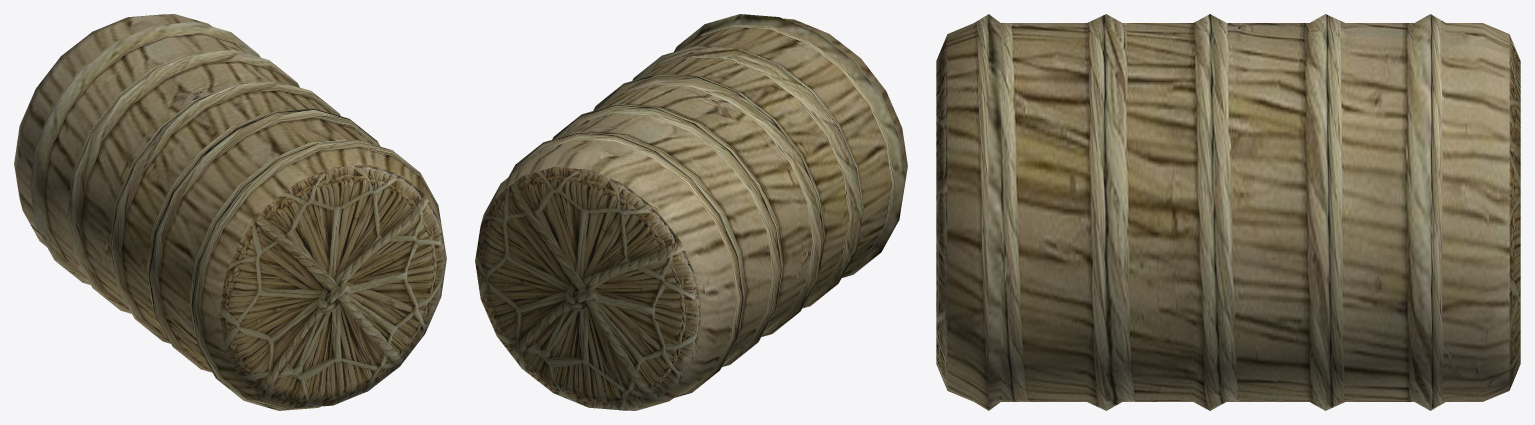
The model's file is rice_barrel.fbx.
3 views of the same model, side by side, from view 1: azimuth 30°, elevation 25°; view 2: azimuth 150°, elevation 25°; view 3: azimuth 270°, elevation 25° (orthographic). The views are drawn at different scales.
Parts seen in each view (by area): view 1: rice_barrel; view 2: rice_barrel; view 3: rice_barrel.
Part boxes in pixels (bbox=[...]): rice_barrel: bbox=[14, 14, 446, 410]; rice_barrel: bbox=[475, 14, 907, 410]; rice_barrel: bbox=[936, 14, 1520, 410].
Size of the model in its own units: 46.91 by 46.91 by 68.52.
Materials: 1 (1 with a texture image).
